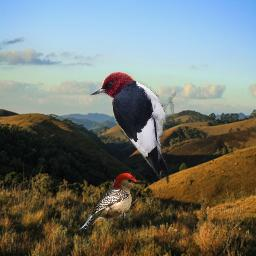Woodpecker: (85, 70, 176, 184), (78, 171, 148, 231)
